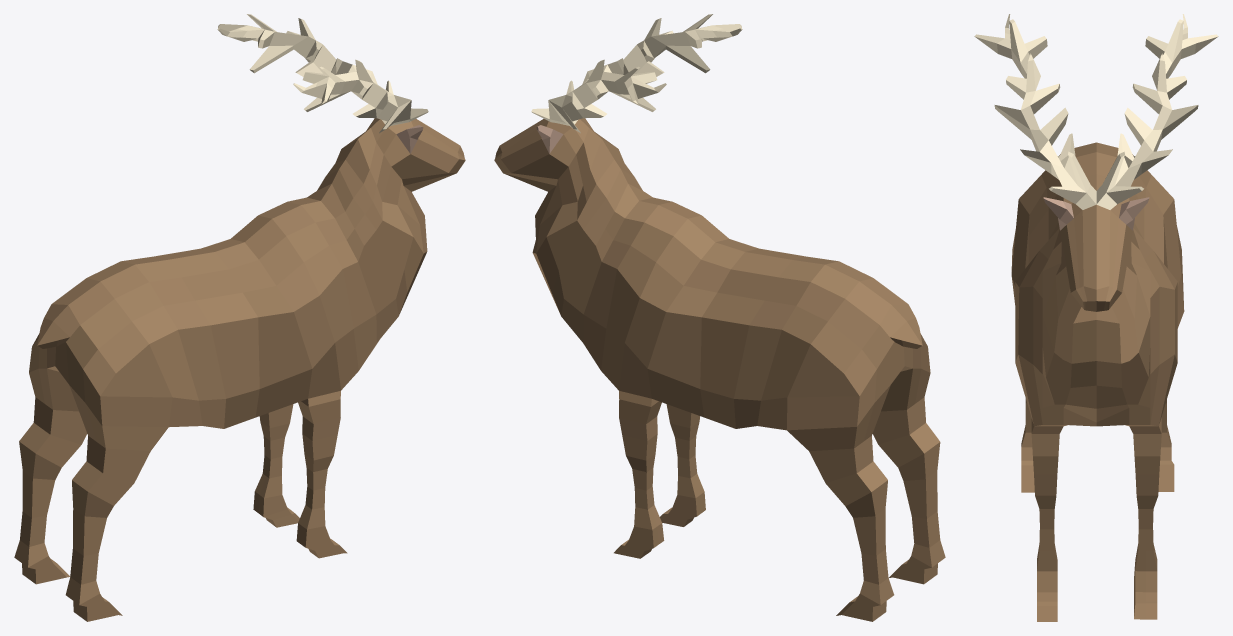
The model's file is ciervo.fbx.
3 renders of one model, left to right at view 1: azimuth 30°, elevation 25°; view 2: azimuth 150°, elevation 25°; view 3: azimuth 270°, elevation 25°, orthographic. The views are drawn at different scales.
Parts seen in each view (by area): view 1: CIERVO; view 2: CIERVO; view 3: CIERVO.
Part boxes in pixels (x1=…): CIERVO: x1=14, y1=14, x2=465, y2=621; CIERVO: x1=494, y1=14, x2=945, y2=621; CIERVO: x1=974, y1=14, x2=1218, y2=621.
Bounding box in the file's own units: 407 × 460 × 175.
